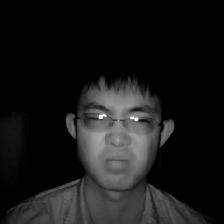sad: (66, 61, 177, 195)
